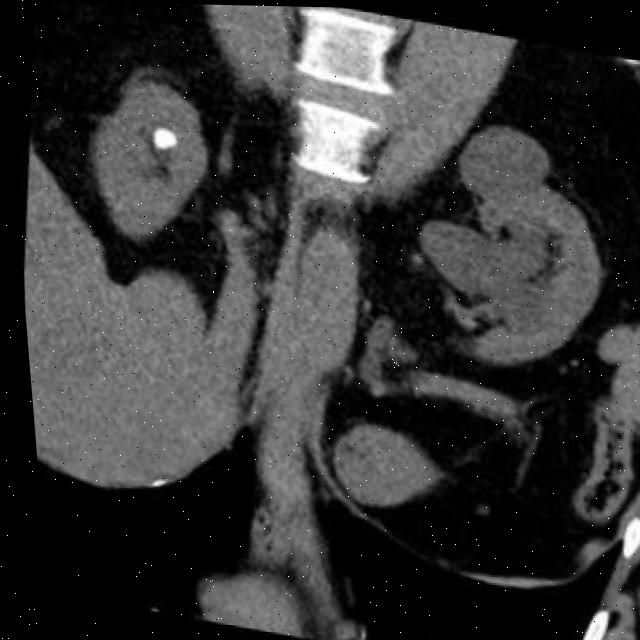Tas_Var: (140, 120, 190, 155)
